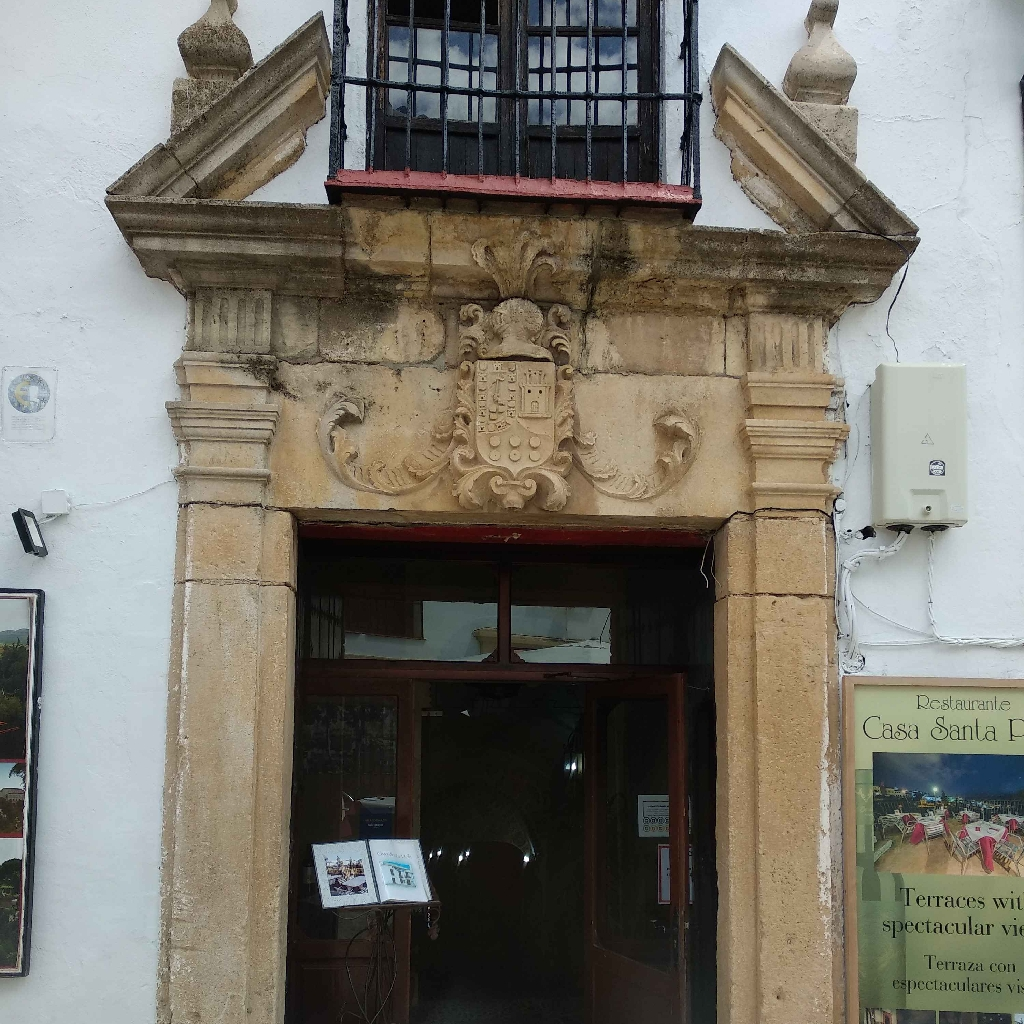fronton-partido: (112, 12, 900, 288)
vano-adintelado: (237, 468, 755, 1024)
